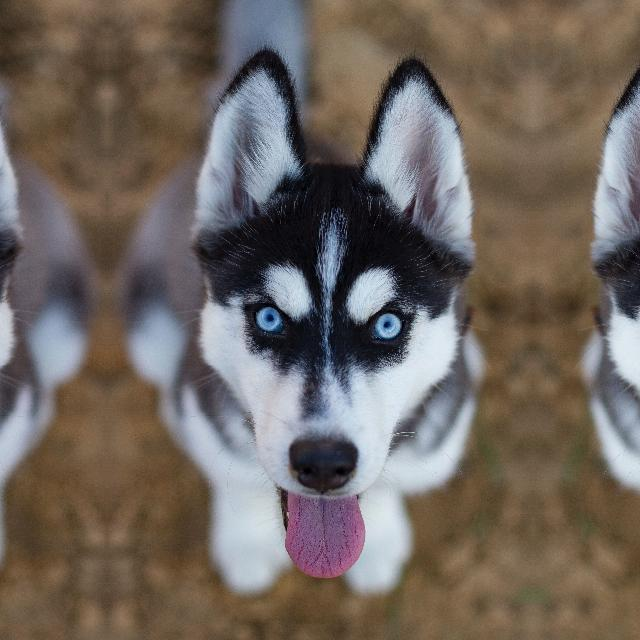dog: (145, 45, 475, 603), (0, 45, 67, 603), (591, 45, 640, 603)
